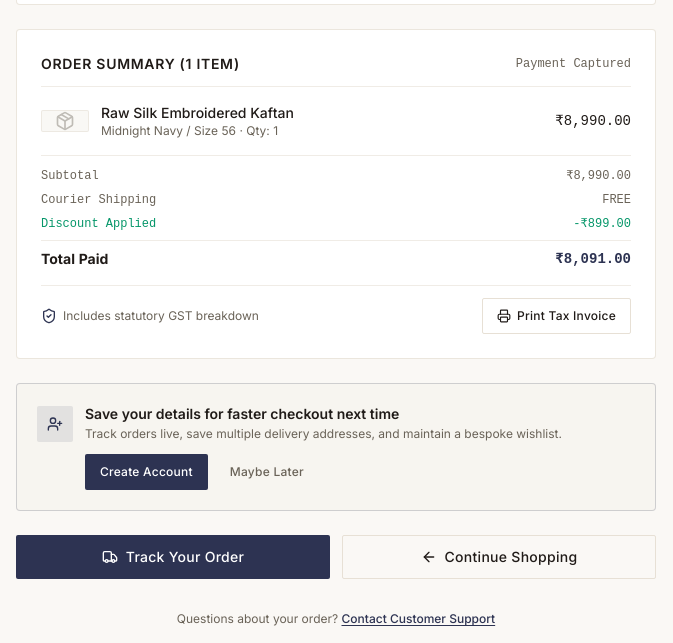
Test case: OrderConfirmationView Component › renders guest registration prompt when isGuest is true, and allows dismissal
(page scrolled)
expect the heading "Save your details for faster checkout next time" is shown: met, box [85, 405, 399, 422]
Click the button "Maybe Later" at (267, 472), box [216, 454, 318, 490]
(page scrolled)
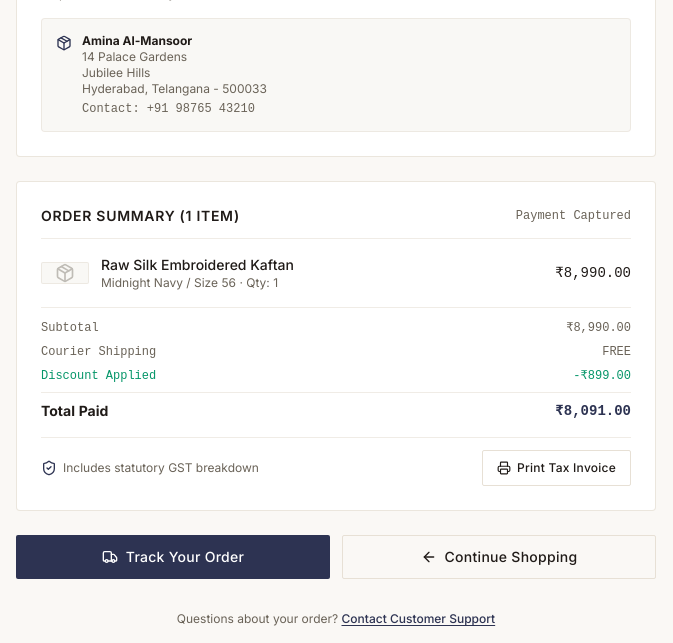
expect the heading "Save your details for faster checkout next time" is gone: met
